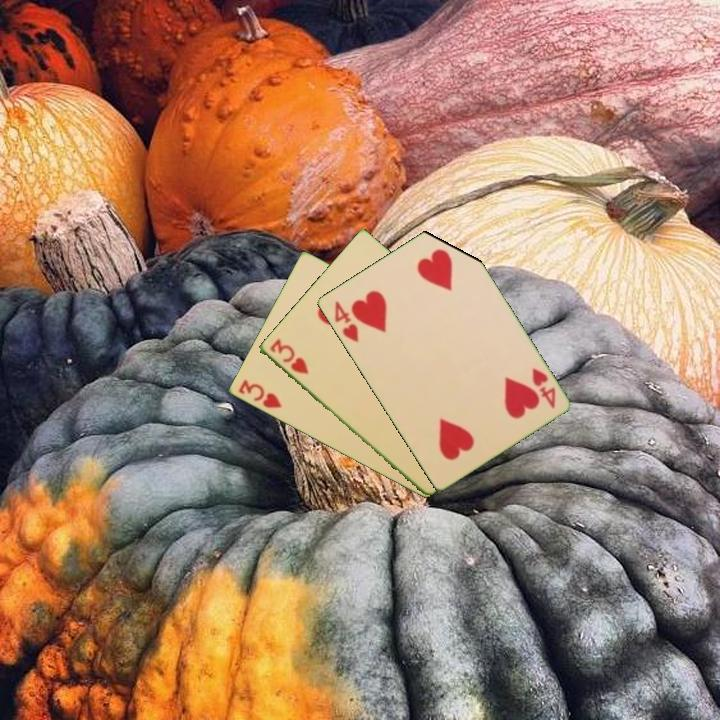3h: (266, 335, 311, 377), (234, 376, 284, 411)
4h: (330, 297, 361, 345), (528, 364, 558, 412)
